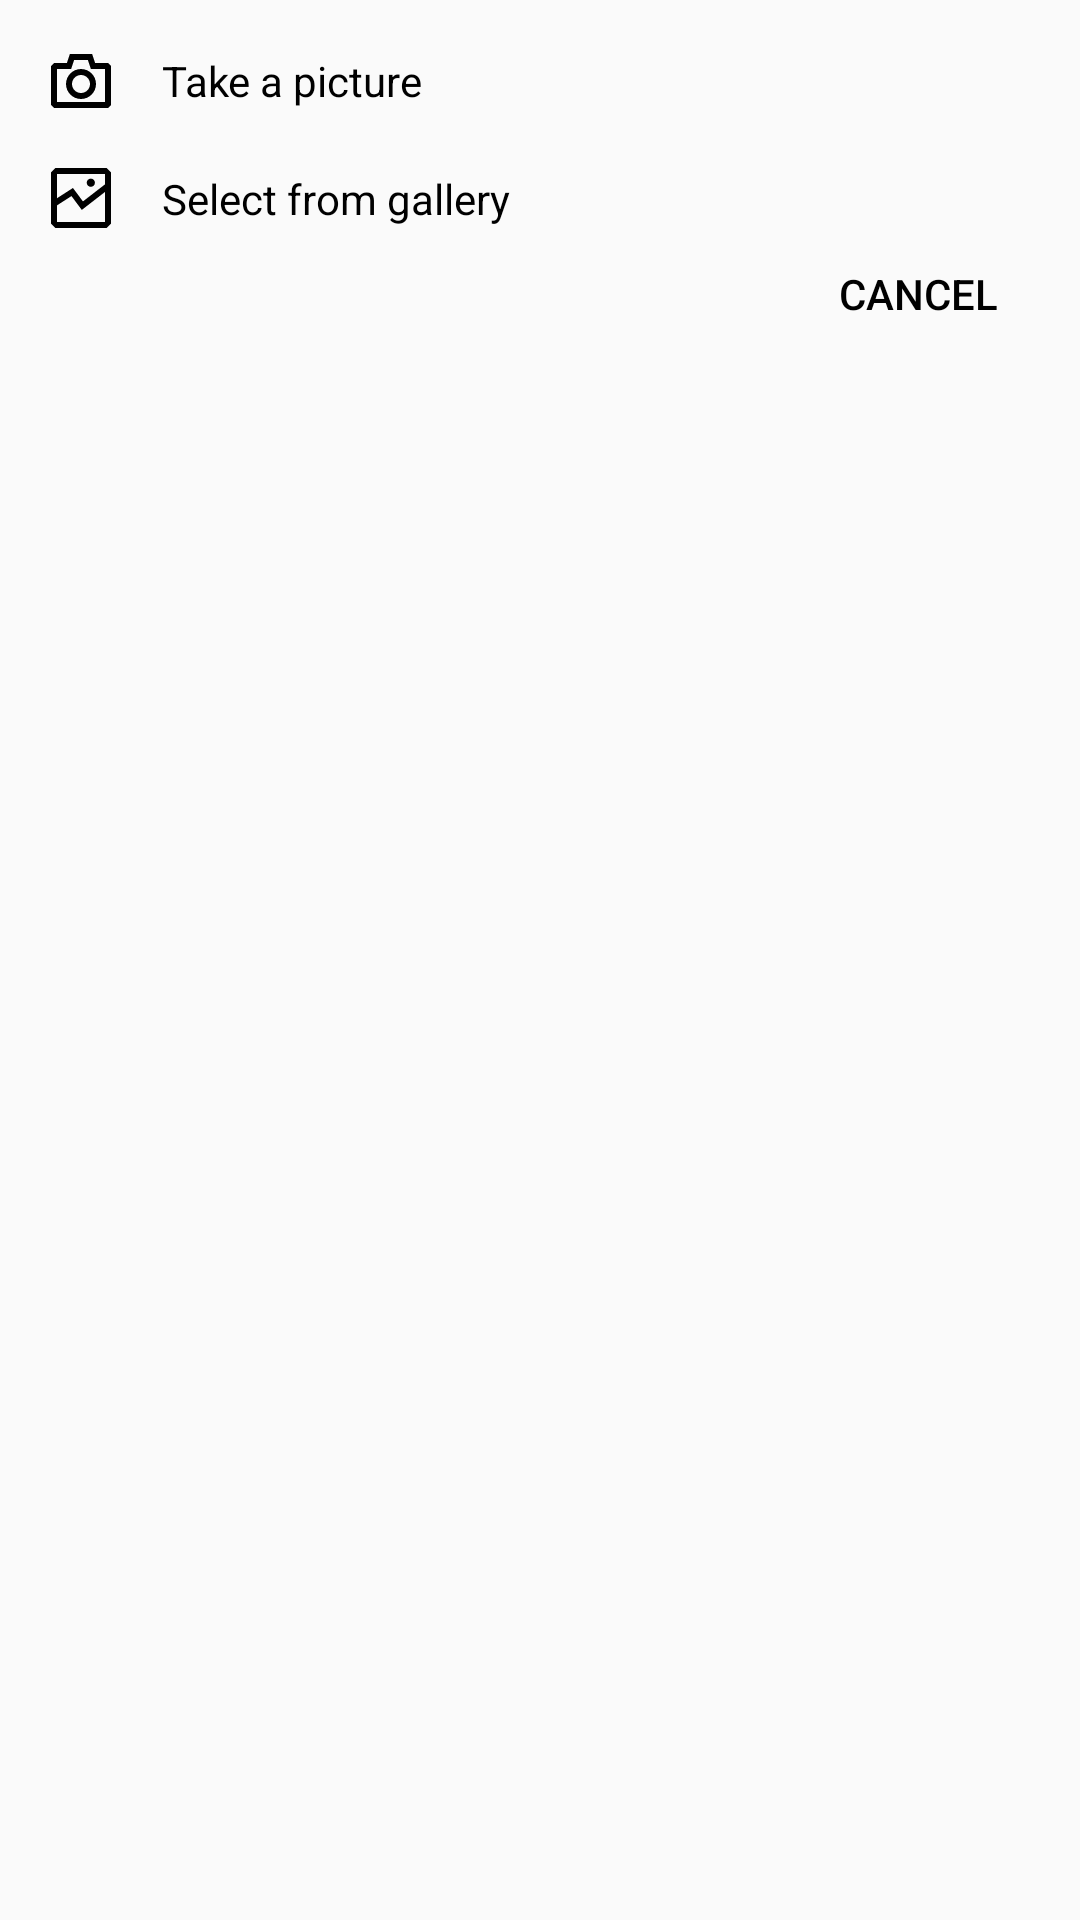

Where icons sit on this 1080 x 1920 app screen, as [x1=x1, y1=y1, x2=x2, y2=y2]:
camera options dialog: [x1=51, y1=54, x2=111, y2=108]
gallery options dialog: [x1=51, y1=168, x2=111, y2=228]
